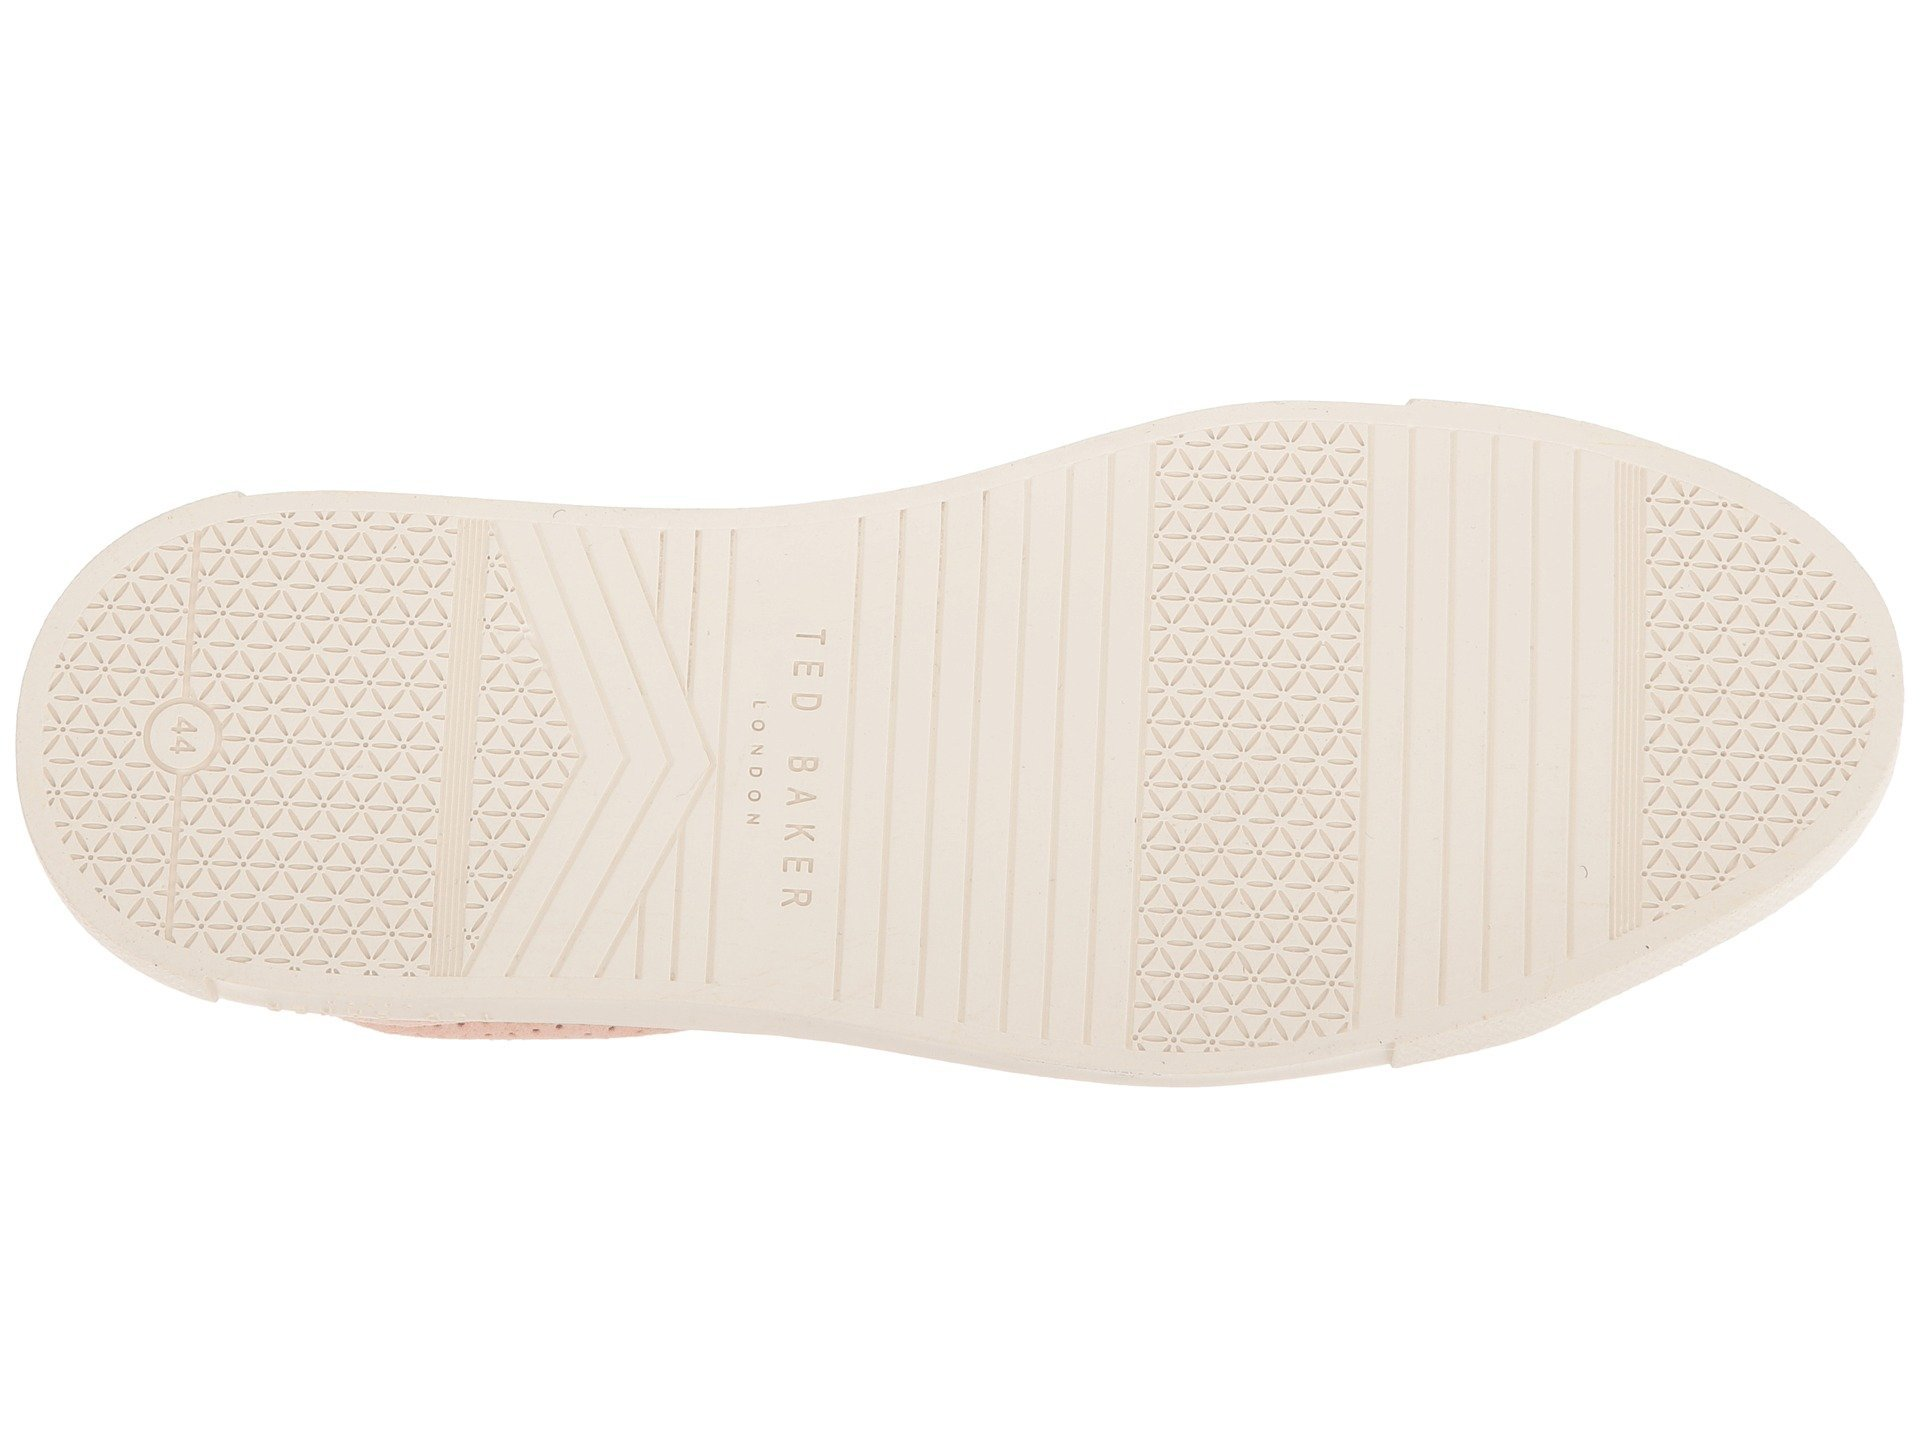chevron: (571, 653, 729, 880)
circle: (129, 681, 259, 849)
line: (865, 542, 1137, 815), (1373, 446, 1636, 691), (1371, 717, 1631, 964), (571, 653, 729, 880)
polygon: (1163, 535, 1358, 759), (1141, 812, 1339, 1024), (1643, 566, 1832, 782), (265, 566, 441, 750), (129, 681, 259, 849), (277, 814, 437, 950)
text: (732, 628, 841, 926), (129, 681, 259, 849)
triangle: (1163, 535, 1358, 759), (1141, 812, 1339, 1024), (1643, 566, 1832, 782), (265, 566, 441, 750), (129, 681, 259, 849), (277, 814, 437, 950)
